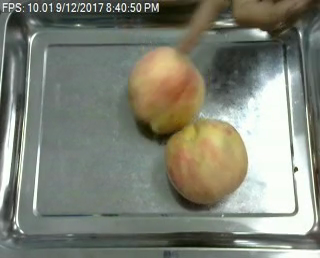Peach: (164, 117, 249, 204), (127, 46, 205, 134)
